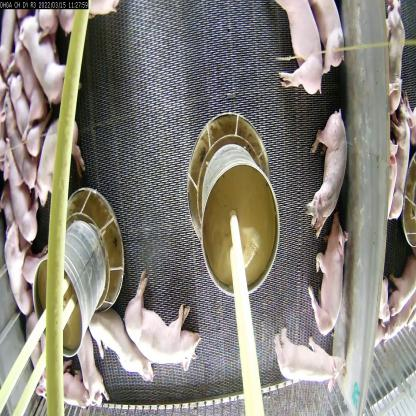Pig: (124, 271, 200, 369), (307, 112, 360, 247), (269, 0, 329, 114), (30, 112, 88, 219), (304, 214, 351, 340), (84, 304, 153, 389), (15, 23, 80, 102), (265, 330, 346, 392), (1, 137, 37, 240), (39, 359, 103, 415), (0, 203, 32, 313)
